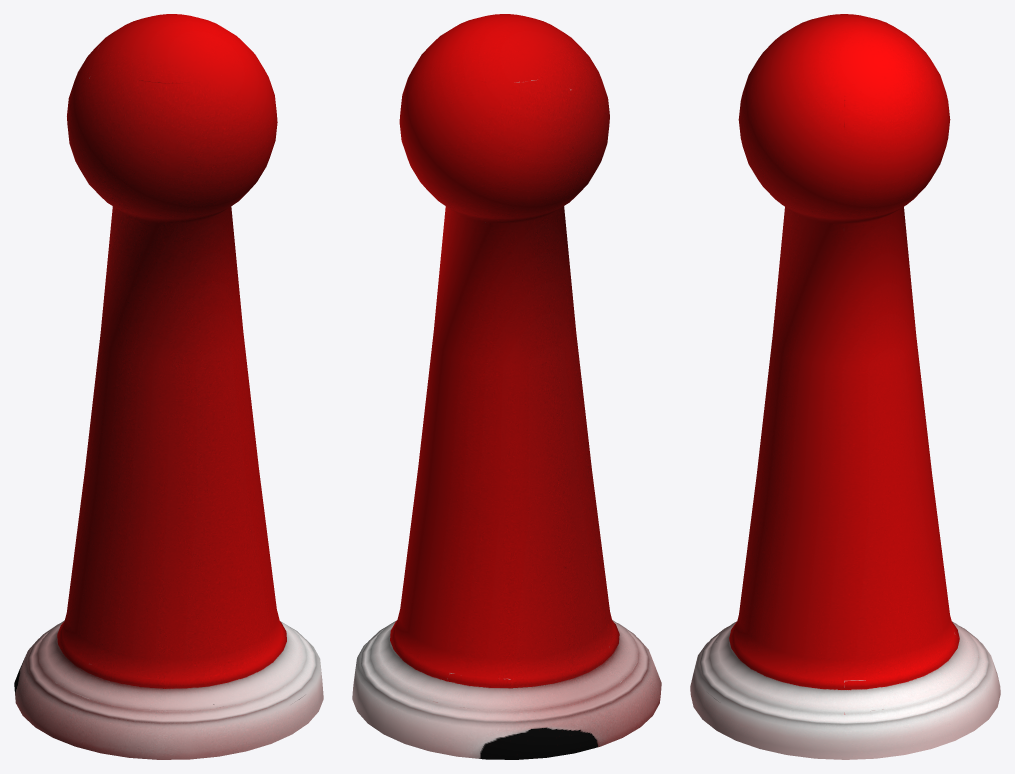
The model's file is red_pawn.gltf.
3 views of the same model, side by side, from view 1: azimuth 30°, elevation 25°; view 2: azimuth 150°, elevation 25°; view 3: azimuth 270°, elevation 25° (orthographic).
Visible parts, largest first — view 1: pawn_lp; view 2: pawn_lp; view 3: pawn_lp.
Boxes of the visible parts, x1,y1,x2,y2 form: pawn_lp: (14,14,323,759); pawn_lp: (352,14,661,759); pawn_lp: (690,14,1000,759).
Bounding box in the file's own units: 0.7037 × 1.68 × 0.7024.
1 material, 1 textured.
